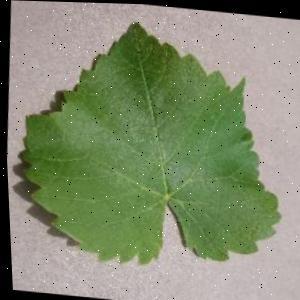Folha: (3, 7, 293, 279)
